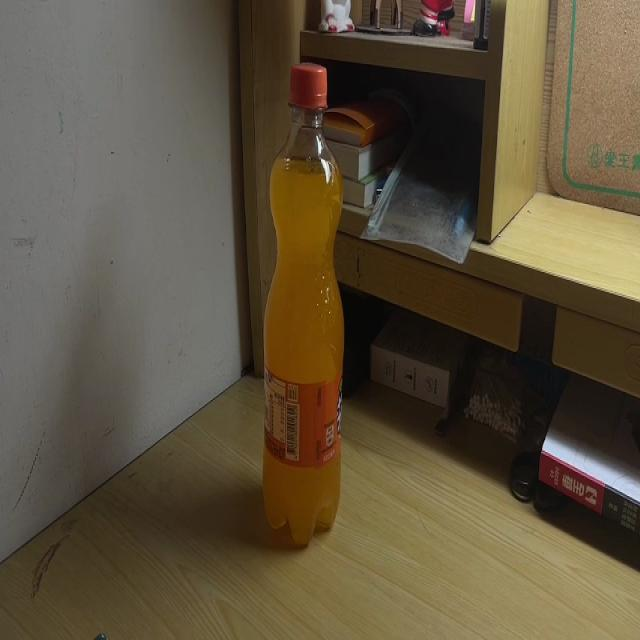Fanta: (263, 61, 346, 545)
